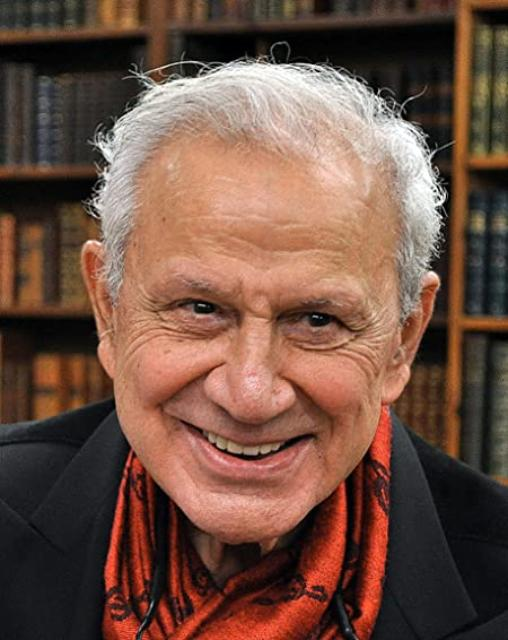crows_feet: (344, 320, 380, 368), (129, 294, 165, 340)
forehead: (234, 233, 332, 264)
frown_line: (242, 302, 272, 326)
gummy_smile: (296, 377, 340, 429), (168, 362, 214, 402)
